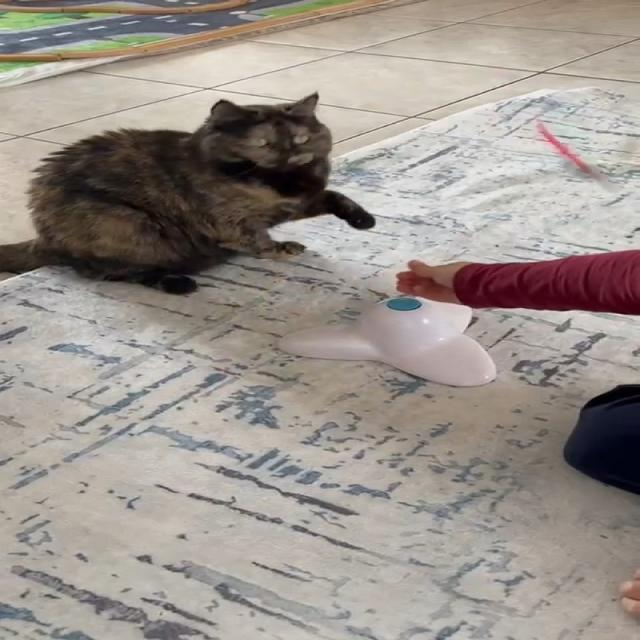authorized: (0, 90, 376, 295)
